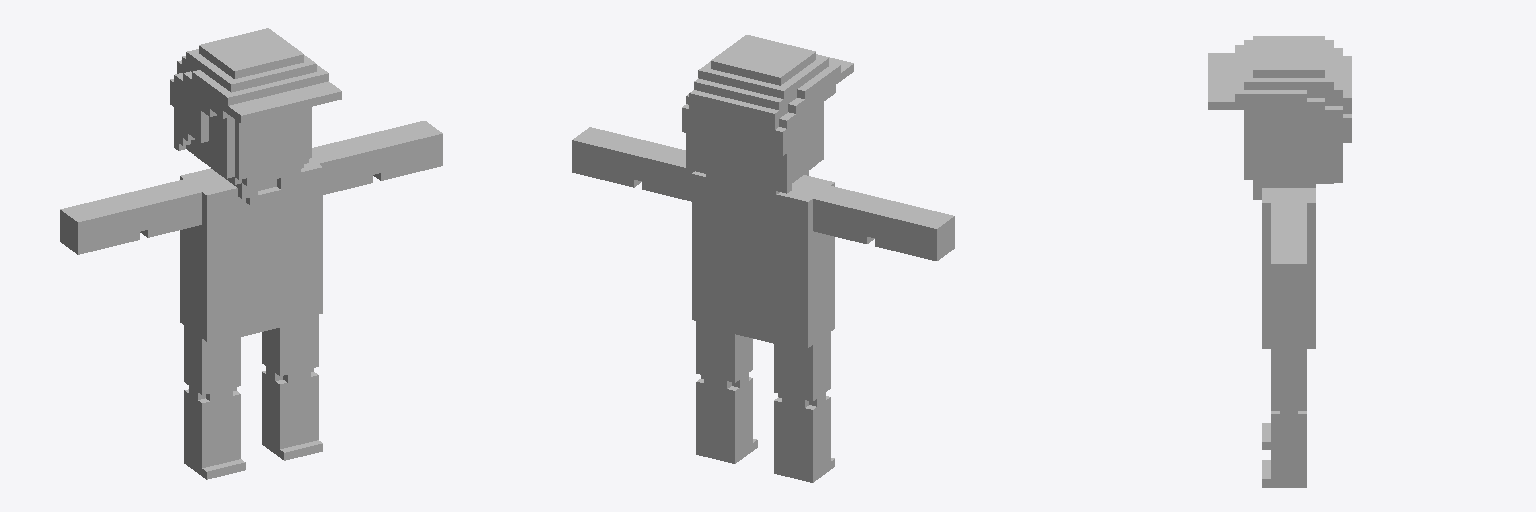
The model's file is character2.obj.
3 views of the same model, side by side, from view 1: azimuth 30°, elevation 25°; view 2: azimuth 150°, elevation 25°; view 3: azimuth 270°, elevation 25° (orthographic).
Visible parts, largest first — view 1: object 1; view 2: object 1; view 3: object 1.
Part boxes in pixels (bbox=[...]): object 1: bbox=[60, 28, 442, 479]; object 1: bbox=[572, 35, 954, 482]; object 1: bbox=[1208, 36, 1351, 487].
Bounding box in the file's own units: 4.7 × 5 × 1.6.